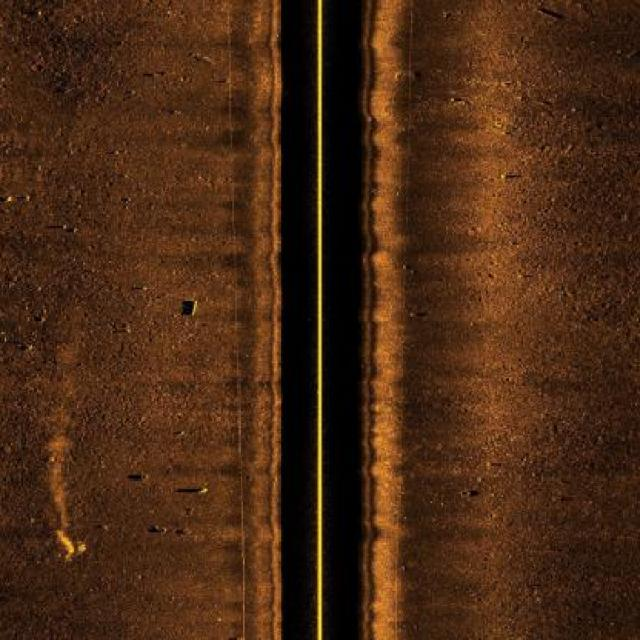mine: (532, 2, 570, 23), (179, 483, 212, 499), (178, 297, 200, 318)
